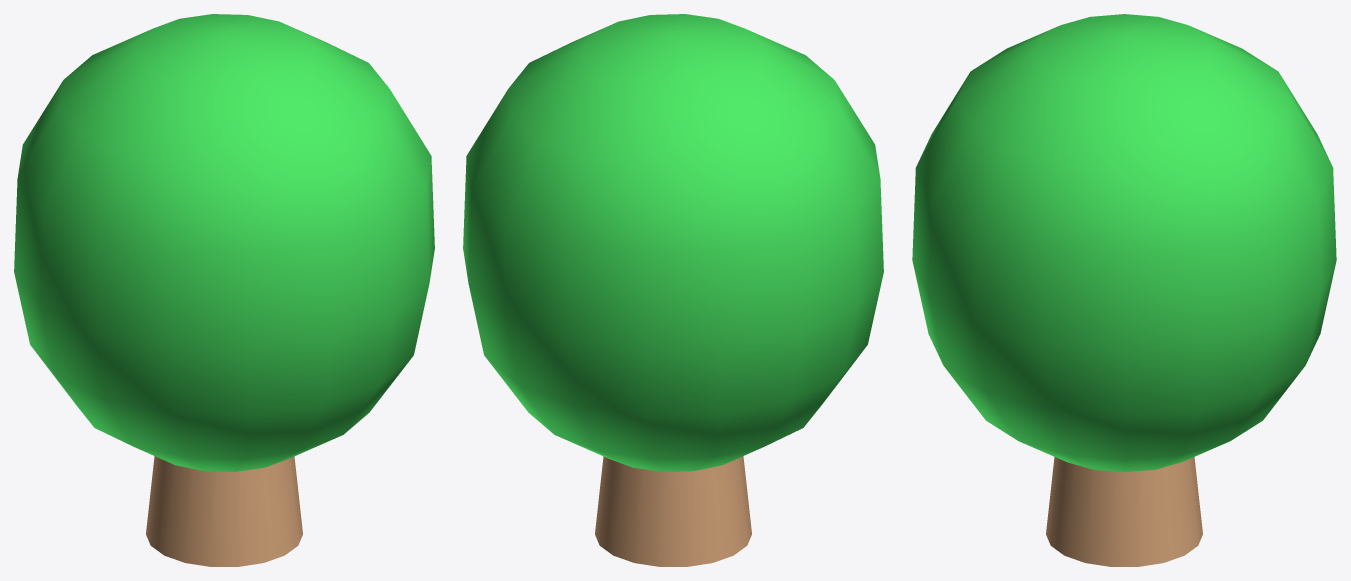
File: Tree_Sphere.fbx
3 views of the same model, side by side, from view 1: azimuth 30°, elevation 25°; view 2: azimuth 150°, elevation 25°; view 3: azimuth 270°, elevation 25° (orthographic).
Parts seen in each view (by area): view 1: Tree.Sphere; view 2: Tree.Sphere; view 3: Tree.Sphere.
Part boxes in pixels (bbox=[...]): Tree.Sphere: bbox=[14, 14, 434, 566]; Tree.Sphere: bbox=[463, 14, 883, 566]; Tree.Sphere: bbox=[912, 14, 1336, 566].
Bounding box in the file's own units: 540 × 700 × 540.
